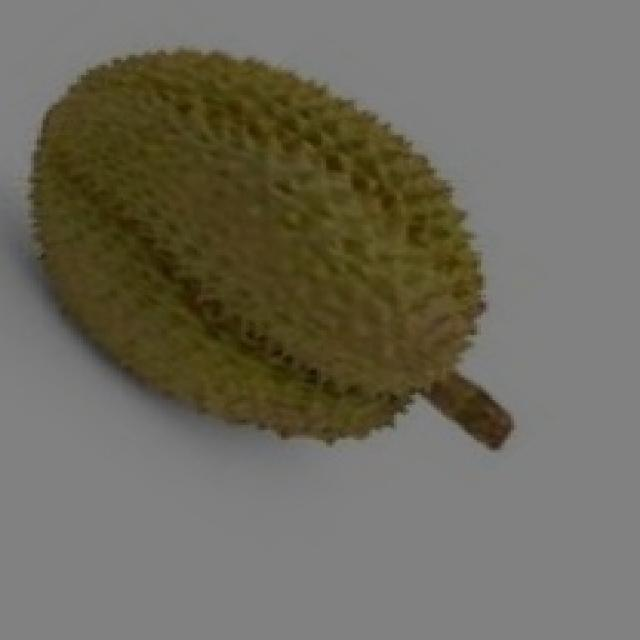fruit: (0, 15, 385, 497)
